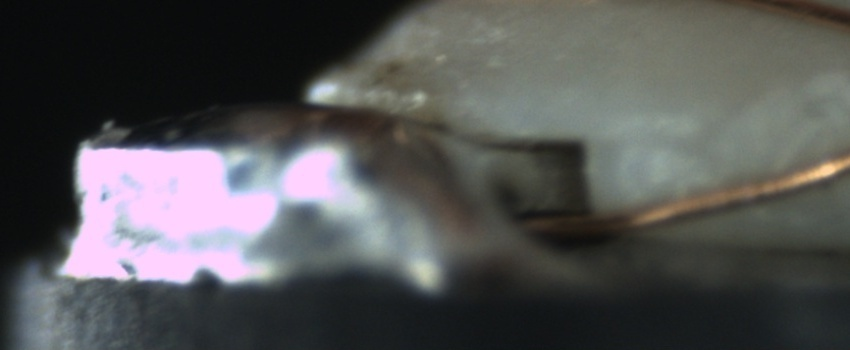DL: (602, 107, 733, 174)
